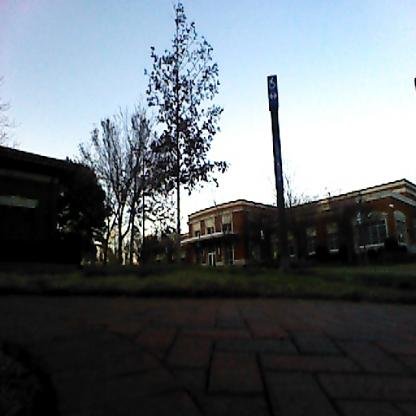Edge: (0, 309, 198, 414)
Sidewalk: (57, 304, 416, 416)
